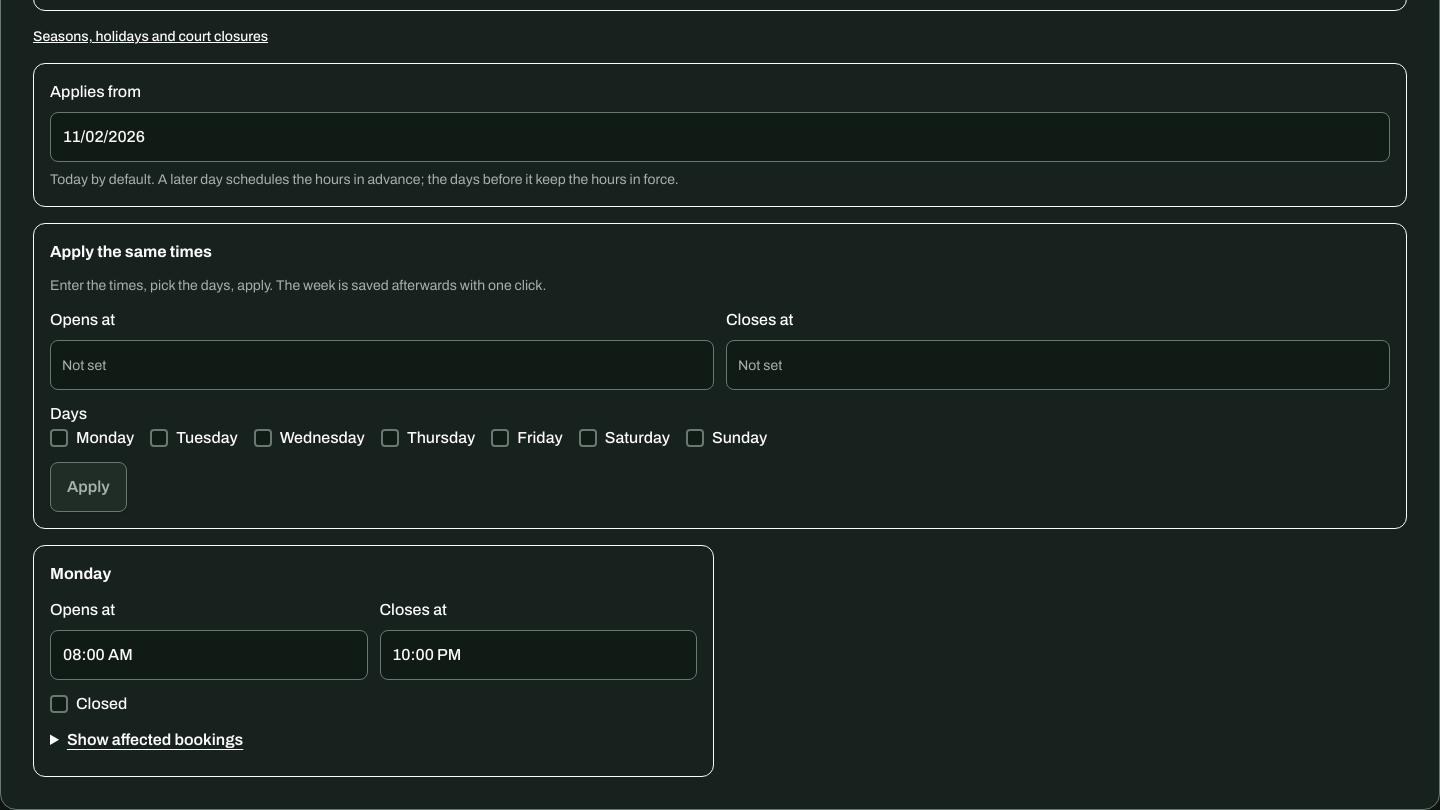
Test: leaving an administrative page with unsaved work › given an edit on the opening hours page, when another page is opened, then the page asks first
(page scrolled)
Click the checkbox with test id "hours-closed-MONDAY" at (59, 704), box [50, 695, 68, 713]
(page scrolled)
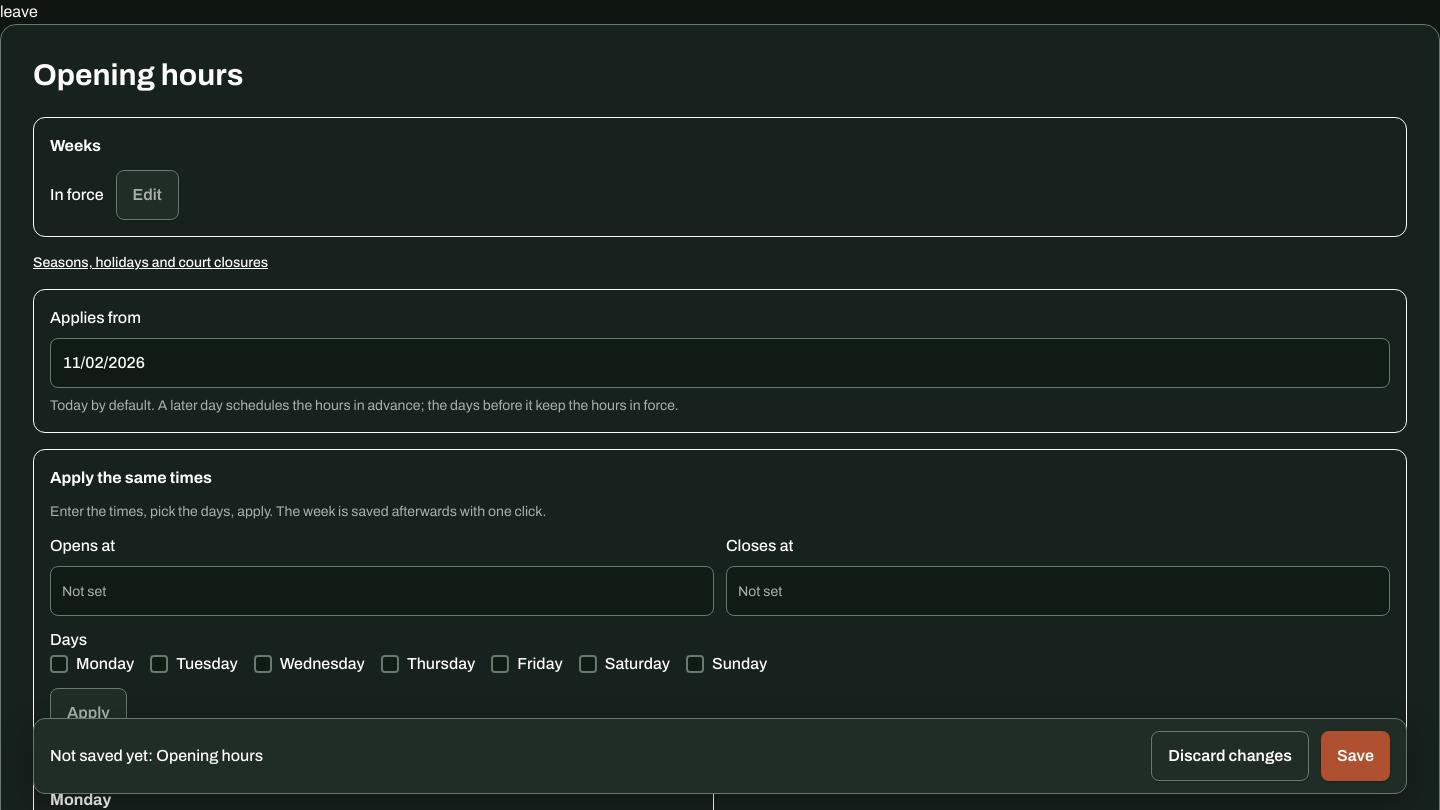
Expected: the element with test id "save-bar" is shown, [33, 718, 1407, 794]
Click the link with test id "leave" at (19, 12), box [0, 3, 38, 20]
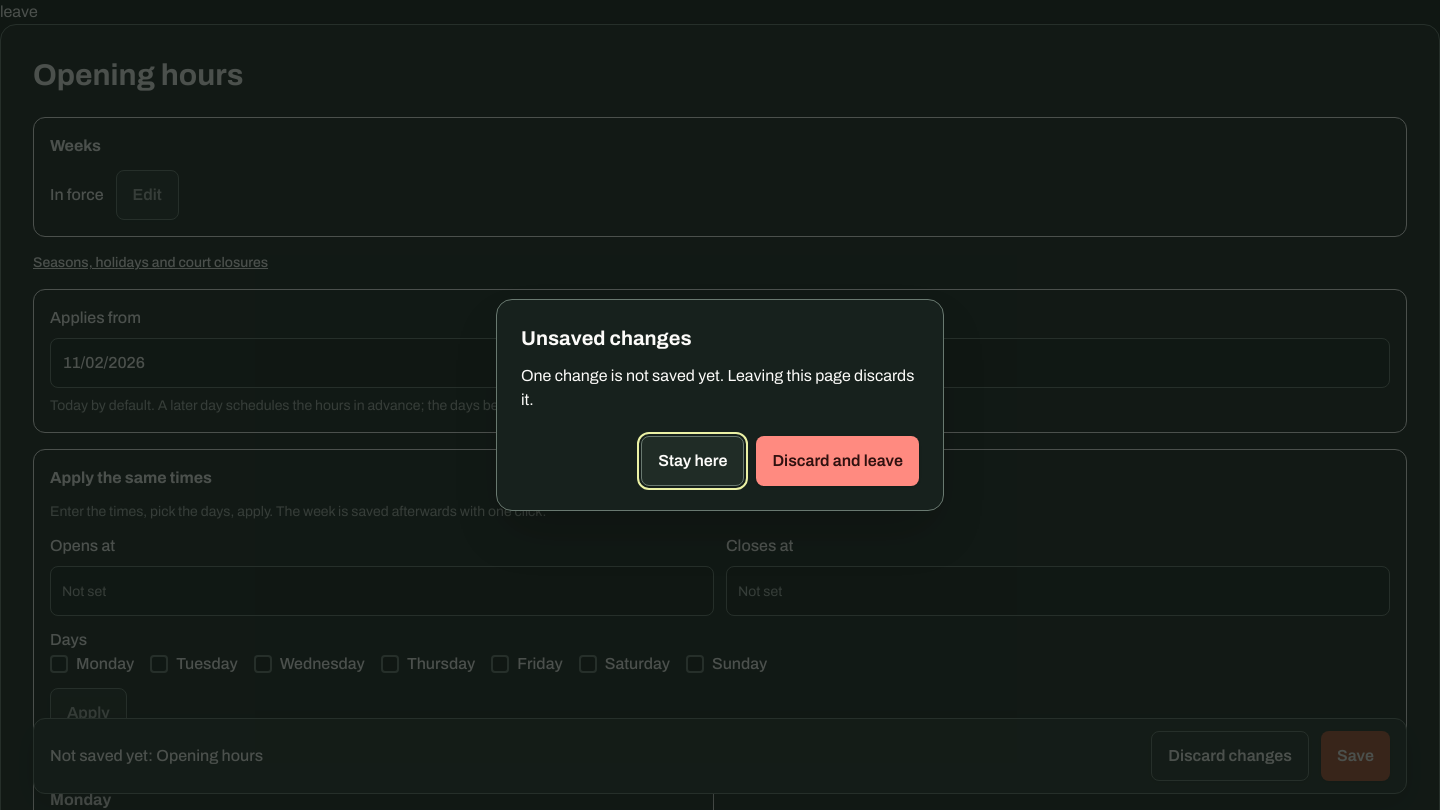
Expected: the dialog with test id "unsaved-changes" is shown, [496, 299, 944, 511]
